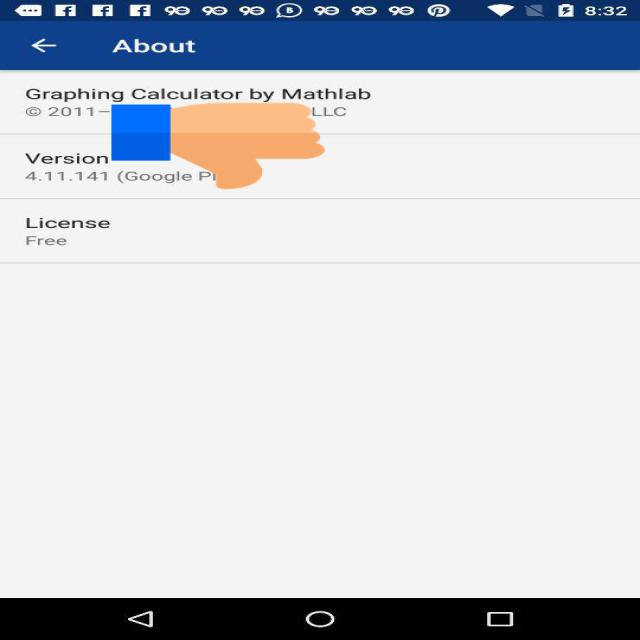obstruction: (111, 101, 325, 191)
